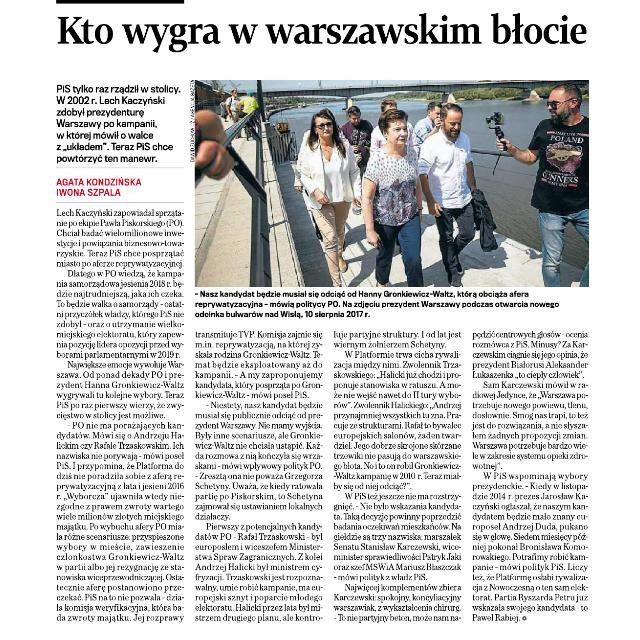author: (52, 172, 150, 200)
body: (51, 205, 188, 630), (328, 327, 466, 627), (191, 328, 325, 628), (469, 327, 591, 627)
caption: (194, 288, 572, 324)
image: (193, 78, 592, 288)
lead: (52, 82, 186, 168)
title: (53, 8, 591, 60)
